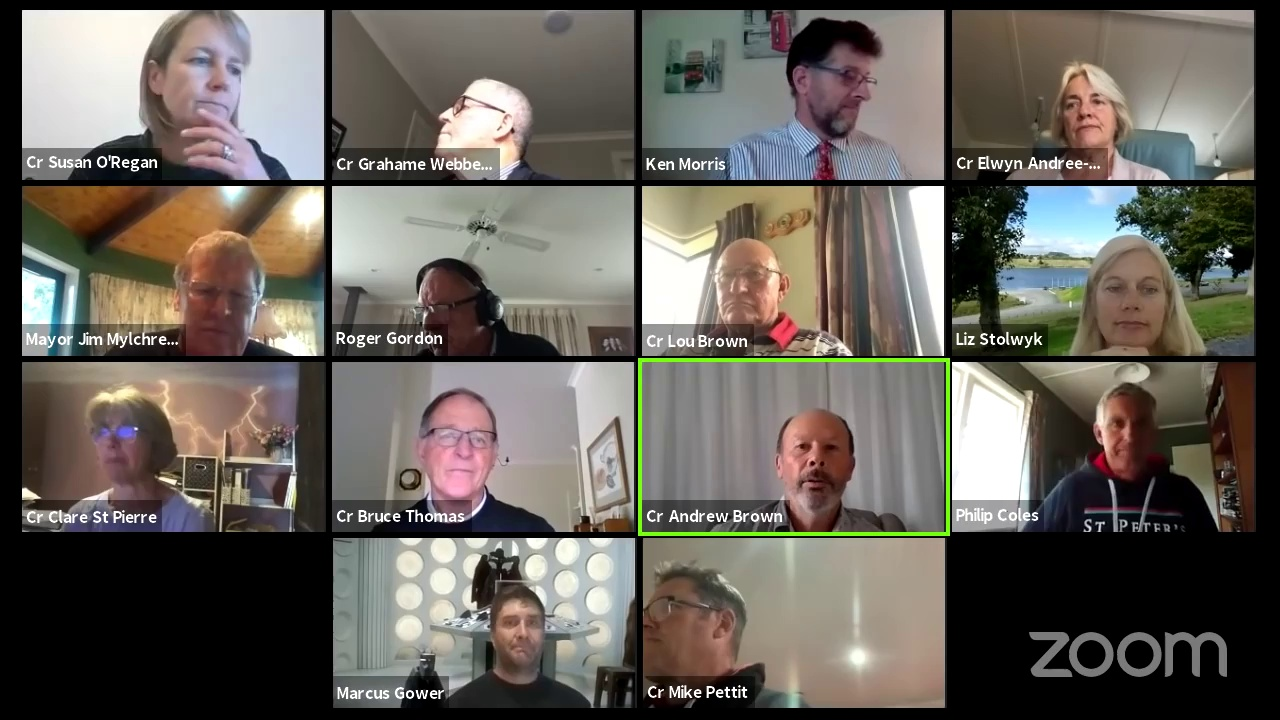Distracted: (785, 21, 888, 142), (642, 565, 731, 682), (143, 20, 230, 125), (426, 74, 520, 161), (408, 264, 494, 350), (1048, 65, 1131, 144)
Not Distracted: (1084, 247, 1177, 341), (184, 238, 262, 345), (90, 394, 167, 487), (419, 408, 489, 500), (774, 416, 845, 505), (716, 243, 784, 328), (1093, 387, 1156, 476), (490, 597, 548, 671)
